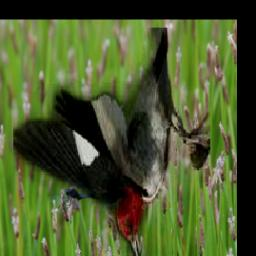Woodpecker: (12, 29, 209, 256)
